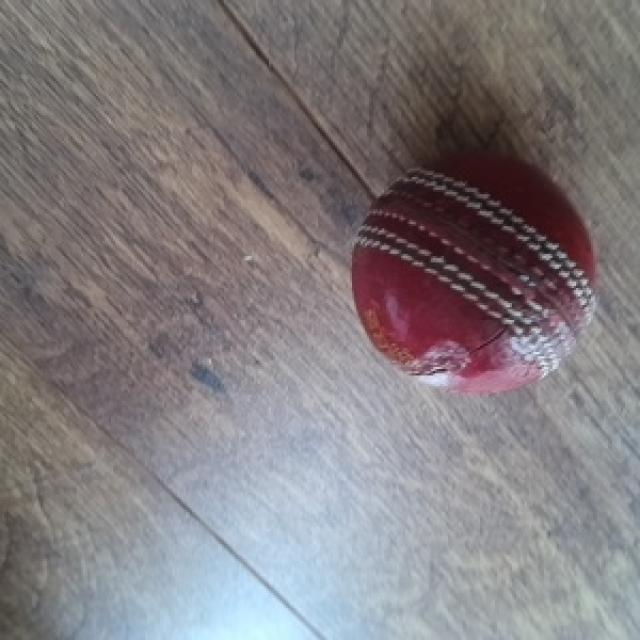ball: (350, 151, 599, 399)
